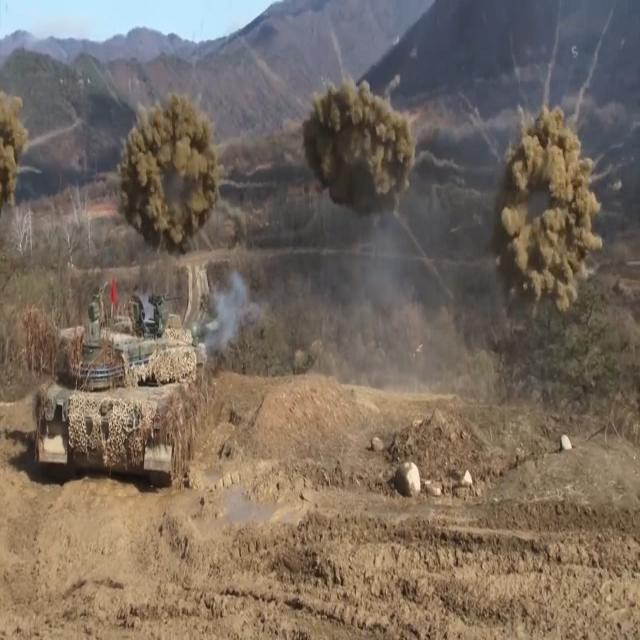korea tank: (24, 278, 264, 494)
